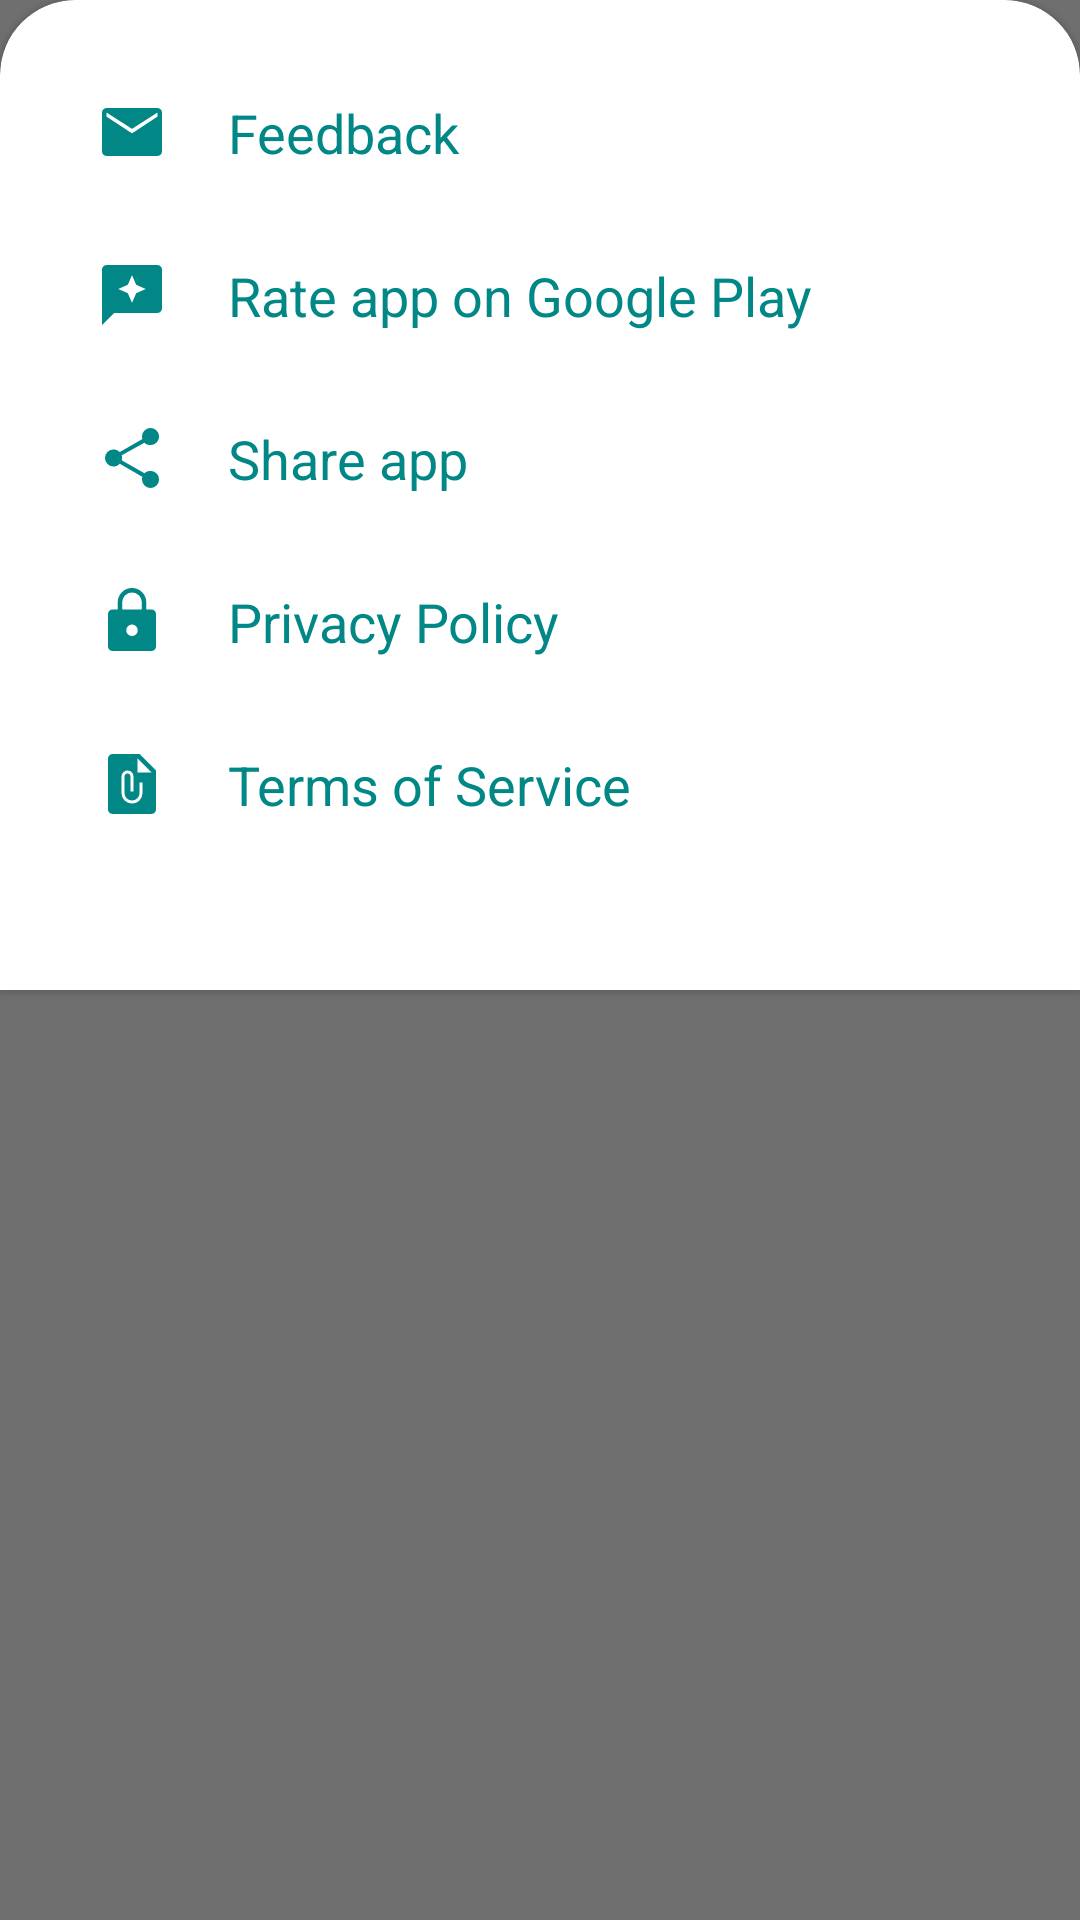

Where icons sit on this 1080 × 1920 app screen, as {"left": x1, "top": y1, "right": x2, "bottom": y2}:
rate us: {"left": 102, "top": 265, "right": 162, "bottom": 325}
